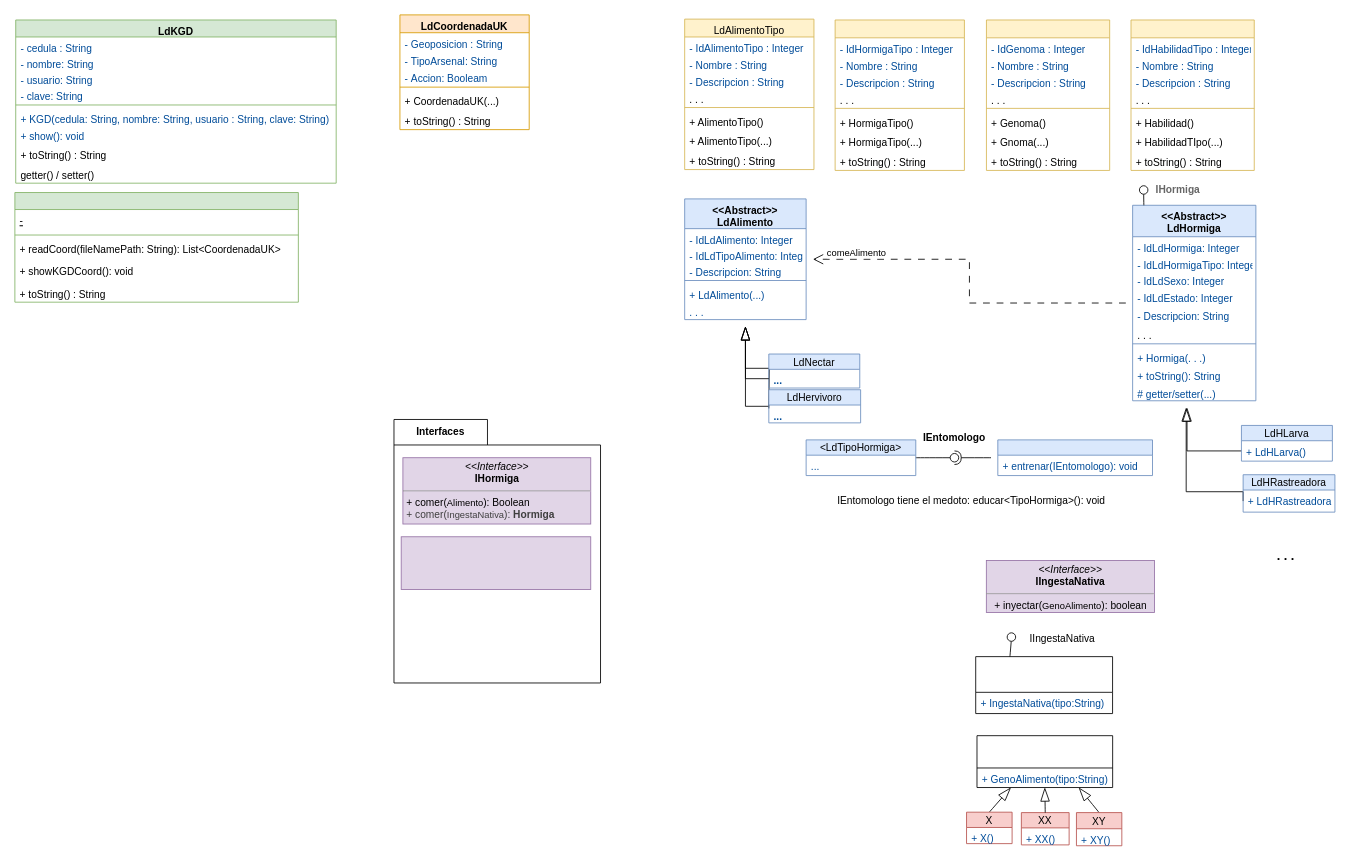
The diagram is 1352 pixels wide and 863 high, and some of its shapes have lost their labels. Here are the shapes that lost their labels. From the top down, the box of each, then its label:
(834, 19, 964, 170): LdHormigaTipo
(986, 19, 1110, 170): LdGenoma
(1130, 19, 1254, 170): LdHabilidadTipo
(14, 192, 298, 302): LdSistemaRuso
(997, 439, 1153, 476): LdEntrenamiento
(400, 536, 591, 589): <<Interface>> IIA + buscar (tipoArsenal : String) : Boolean
(975, 656, 1113, 714): <<Abstract>> IngestaNativa
(976, 735, 1113, 788): <<Abstract>> GenoAlimento
